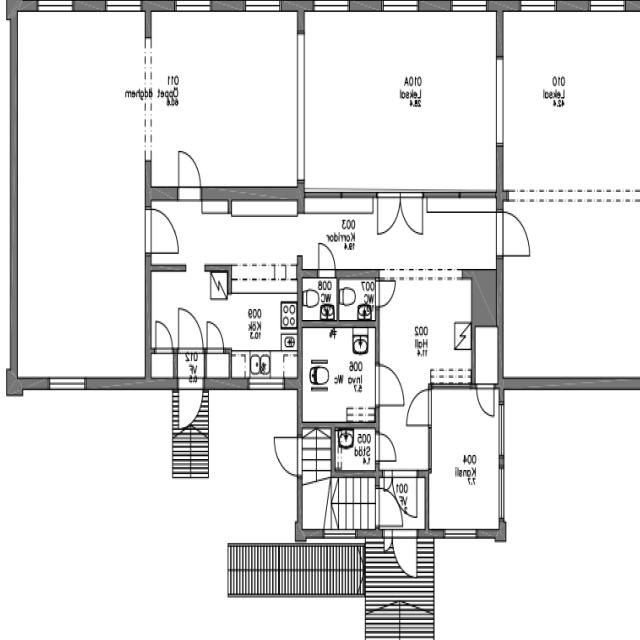door: (500, 211, 533, 255), (146, 210, 178, 253), (178, 376, 203, 429), (177, 148, 201, 201), (375, 366, 405, 407), (272, 435, 302, 475), (393, 530, 417, 580), (393, 471, 417, 518), (375, 489, 403, 527), (179, 309, 203, 352), (378, 192, 401, 234), (401, 192, 423, 234), (408, 393, 432, 426), (318, 241, 335, 279), (375, 434, 396, 460), (375, 281, 396, 307), (477, 383, 494, 415), (208, 320, 225, 352), (156, 321, 172, 352), (384, 530, 393, 554), (384, 470, 393, 493)
